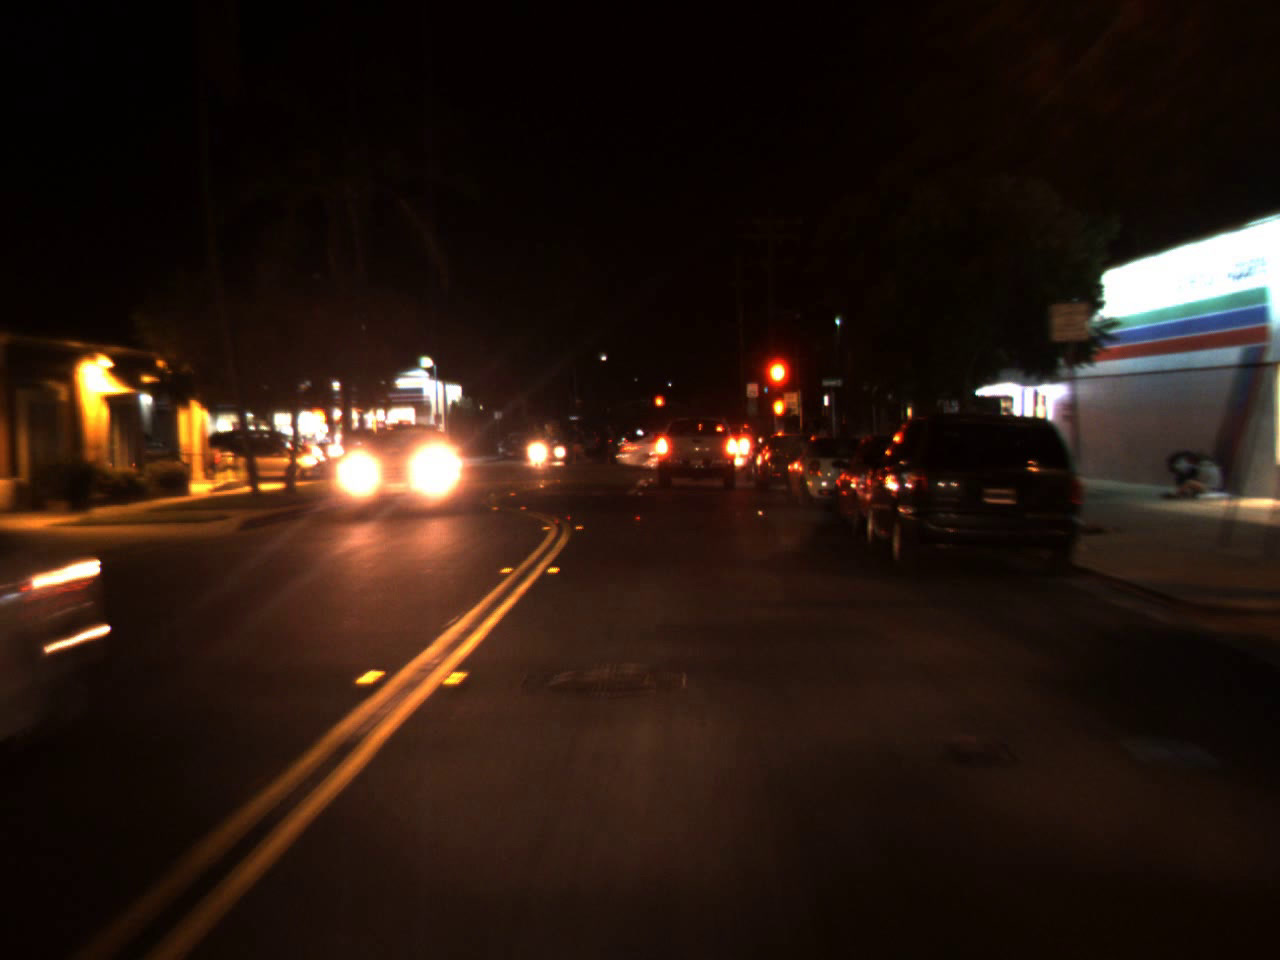stop: (760, 351, 794, 426), (653, 394, 665, 418)
